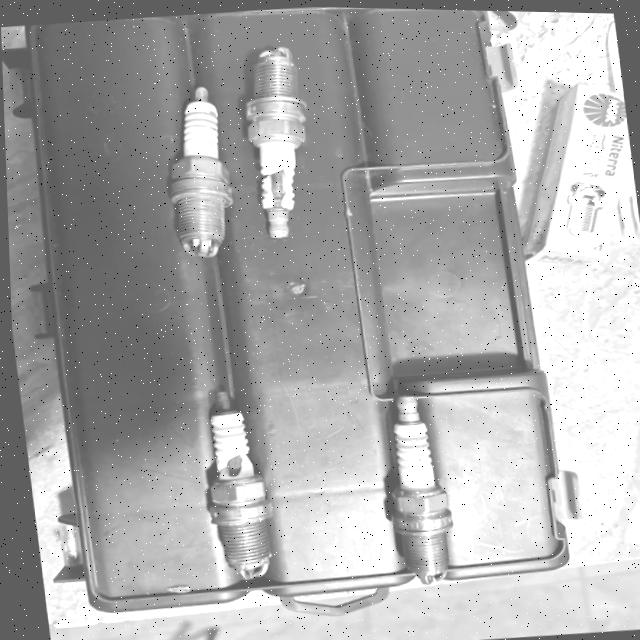damaged_spark-plug: (230, 38, 328, 244), (182, 385, 281, 588)
spark-plug: (363, 380, 462, 586), (146, 68, 240, 262)
